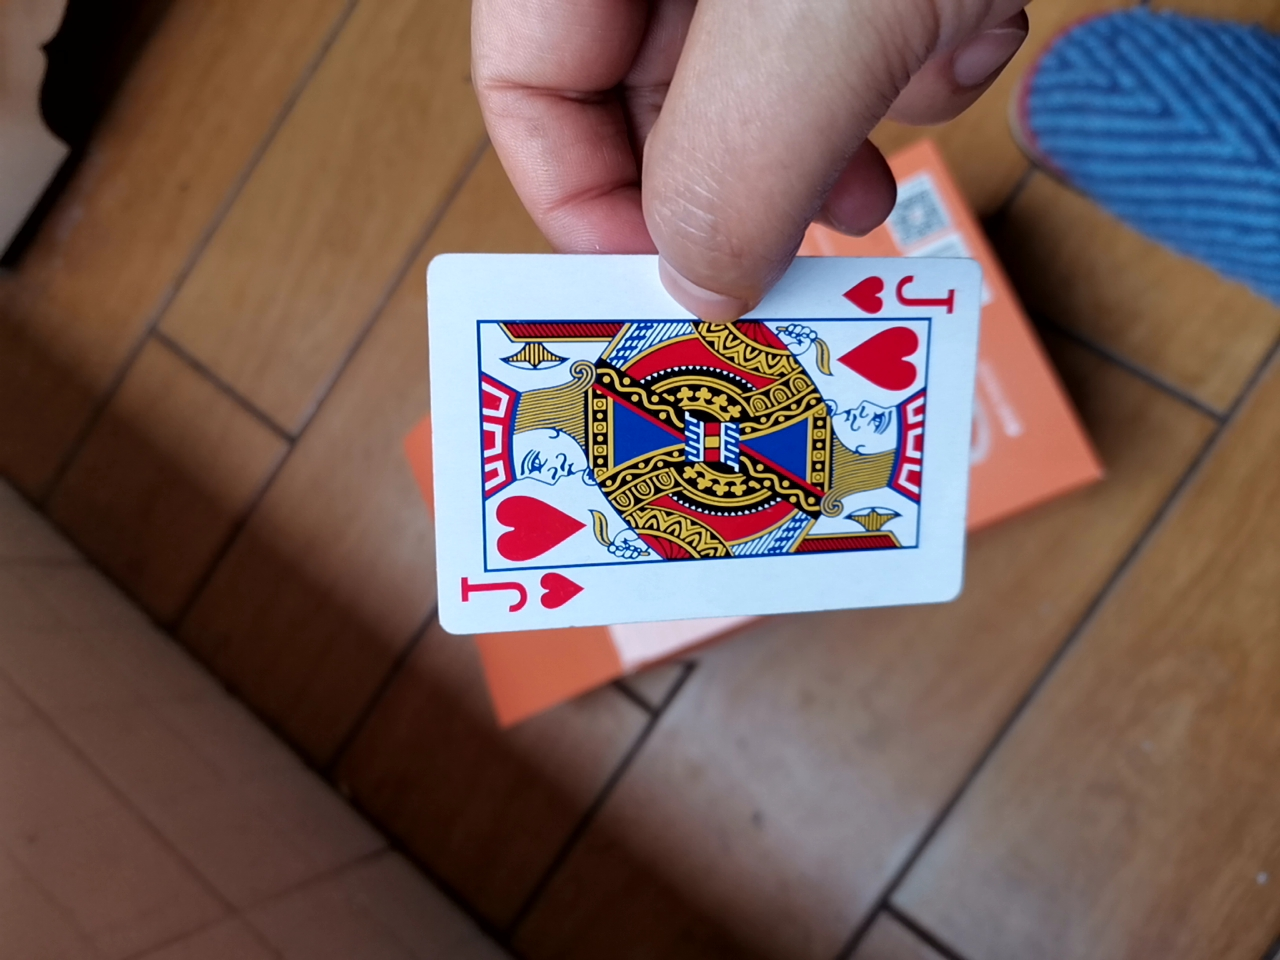hx j: (415, 230, 970, 650)
